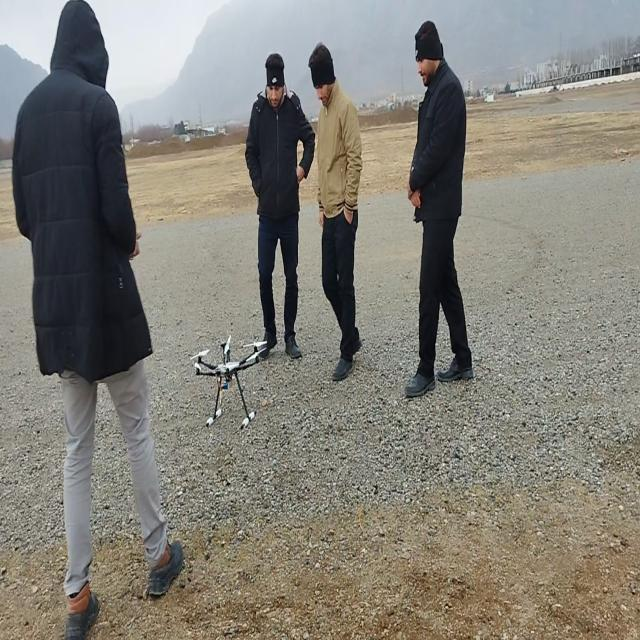drone: (189, 340, 267, 430)
